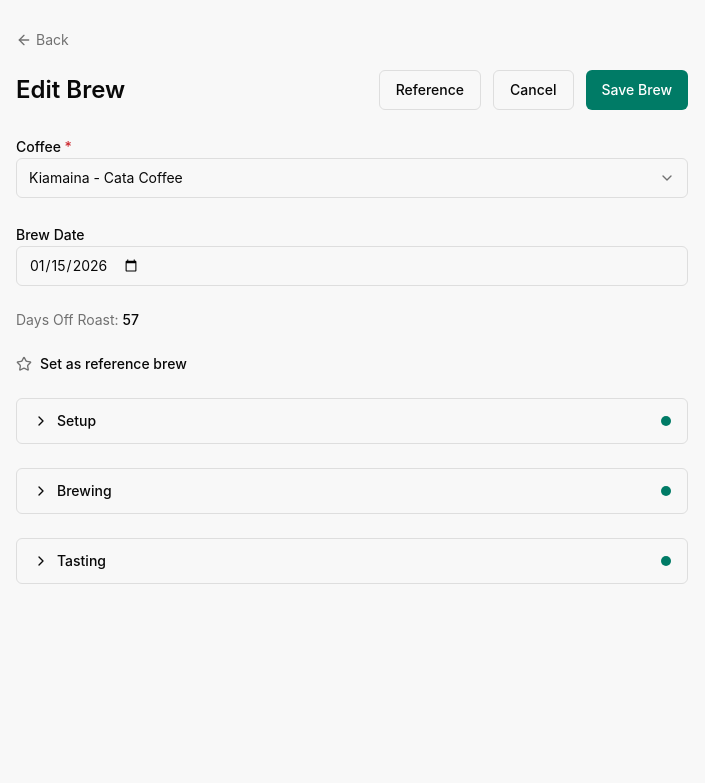
it: BrewFormPage › loads existing brew data when editing
This screenshot has width=705, height=783.
Check: the heading "Edit Brew" is shown, box [16,74,125,106]
Expand Tasting to access overall notes and score
Click the button "Tasting": (82, 560) [17,539,687,583]
(page scrolled)
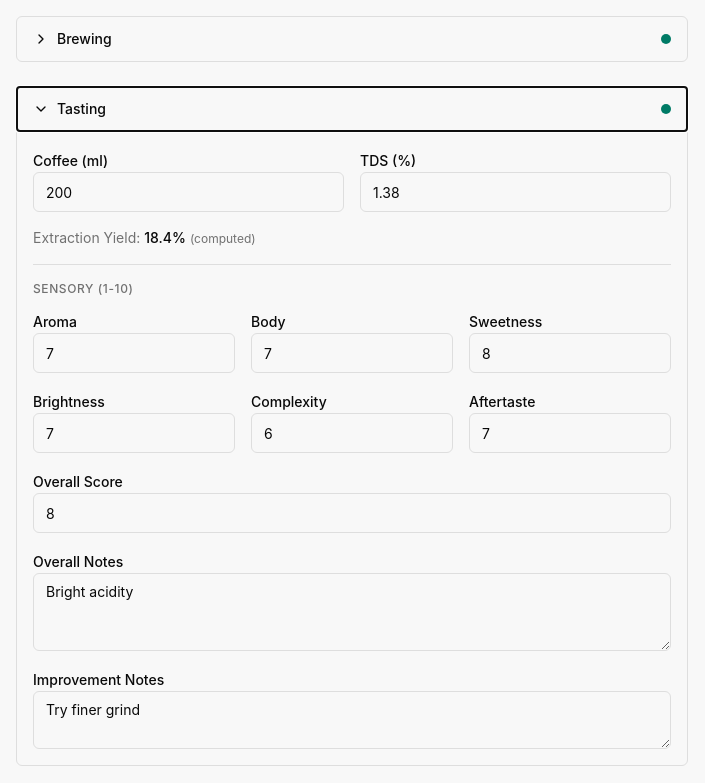
Check: the text box labelled "Overall Notes" holds "Bright acidity", box [33,573,671,651]
Check: the number field labelled "Overall Score" holds "8", box [33,493,671,533]
